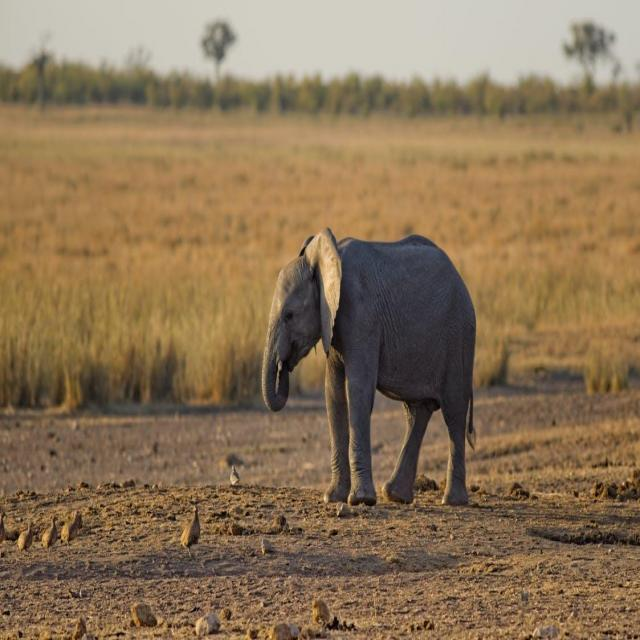Elephant: (262, 230, 484, 526)
